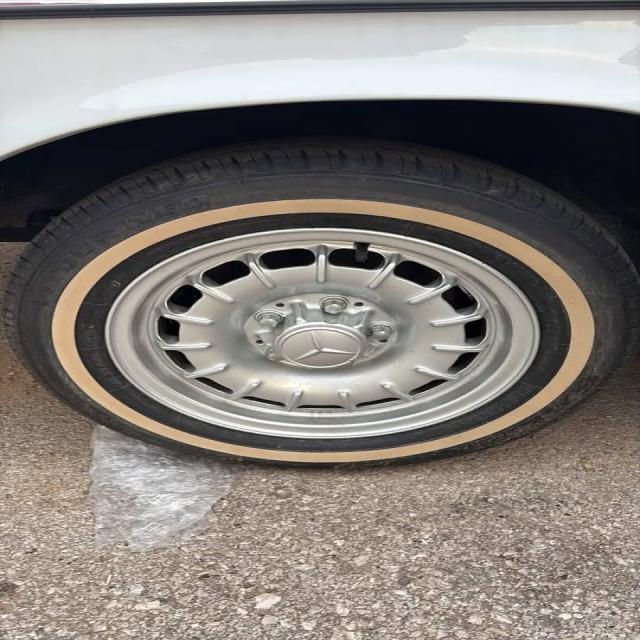jante: (103, 226, 543, 439)
parafuso: (250, 311, 286, 331), (318, 296, 352, 316), (363, 322, 395, 342), (262, 348, 285, 364)
roda: (0, 132, 640, 471)
